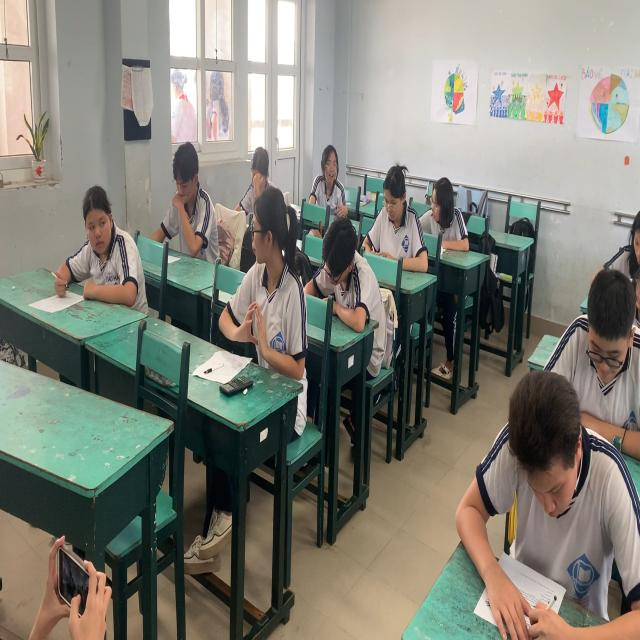cheating: (225, 192, 301, 392), (60, 188, 141, 309)
not_cheating: (463, 370, 614, 596), (560, 278, 634, 402), (312, 212, 380, 312), (155, 143, 213, 257), (374, 153, 429, 264), (299, 132, 353, 222), (414, 170, 472, 250), (237, 142, 276, 202)
